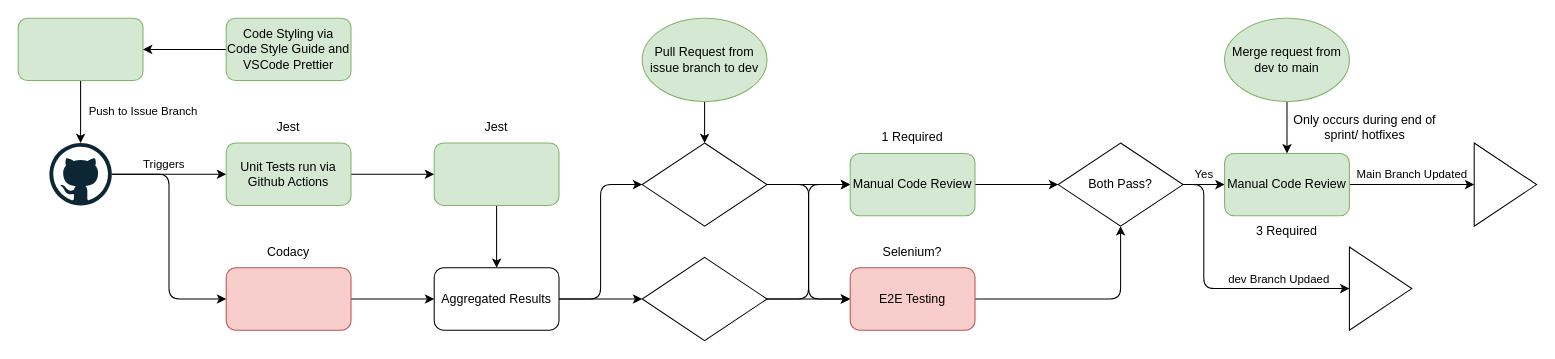
Image size: 1555x359. Some labels were removed from this diagram. Here are the shapes that lost their labels. From the top down, the box of each, then its label:
(17, 17, 143, 81): Developer Writes Code and Unit Tests
(433, 142, 559, 205): Integration Tests run via Github Actions
(641, 142, 767, 226): Tests Passed?
(225, 267, 351, 330): Code Quality Analysis
(641, 256, 767, 341): Codacy Happy?
